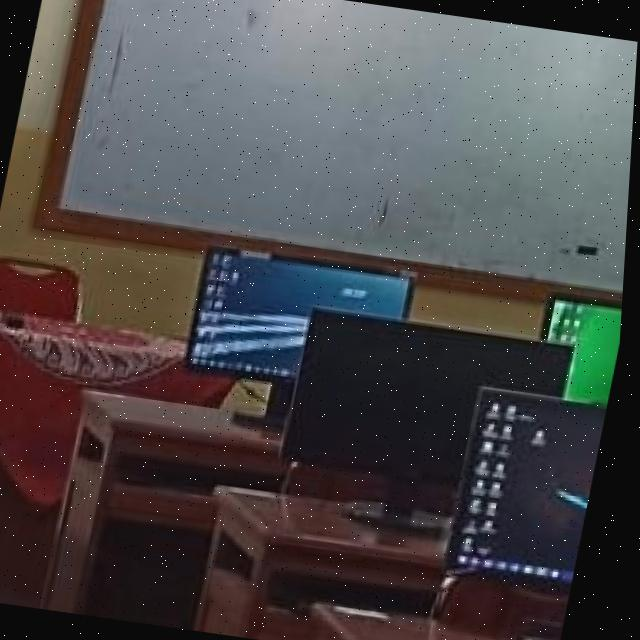offscreen: (288, 309, 574, 480)
onscreen: (454, 389, 611, 582), (192, 250, 416, 377), (551, 299, 626, 405)
